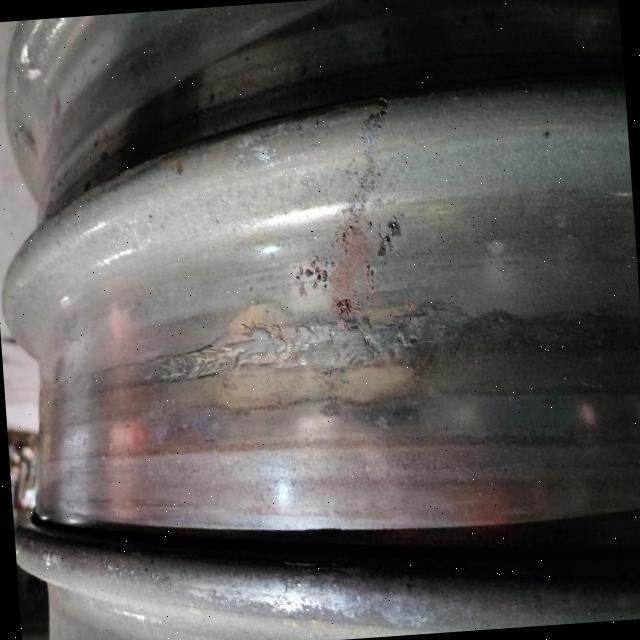Rollerpile: (159, 295, 520, 390)
